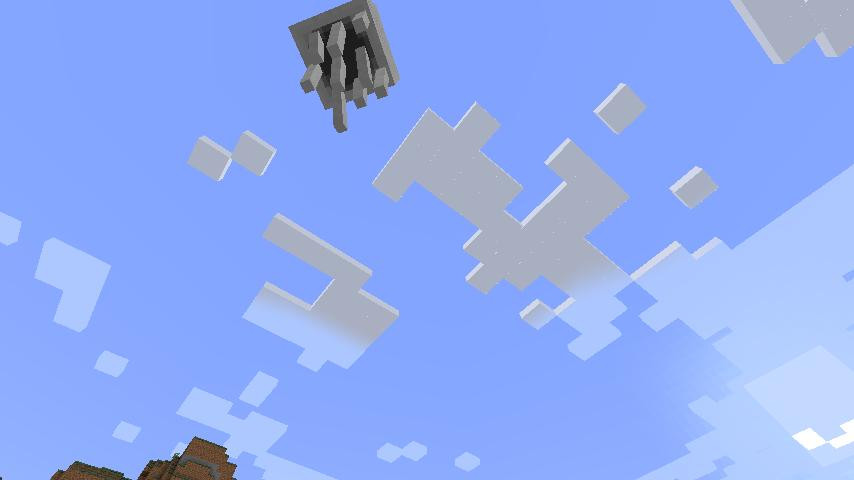ghast: (287, 0, 403, 134)
